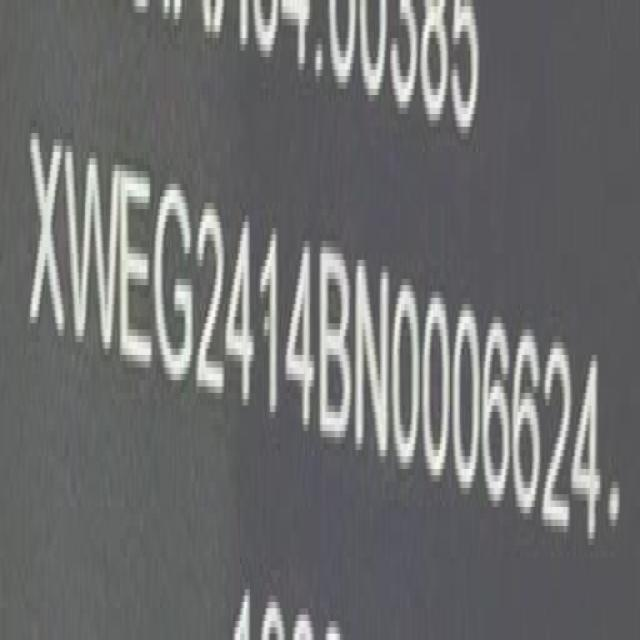0: (394, 271, 424, 474), (422, 288, 451, 490), (453, 299, 482, 490)
1: (259, 218, 281, 424)
2: (196, 197, 227, 404), (543, 340, 575, 538)
4: (287, 232, 318, 442), (572, 352, 605, 546), (225, 208, 255, 415)
6: (512, 322, 542, 523), (484, 312, 509, 514)
B: (318, 238, 353, 450)
E: (118, 161, 157, 383)
G: (154, 170, 195, 390)
N: (356, 253, 394, 471)
W: (67, 134, 120, 370)
X: (28, 125, 68, 356)
